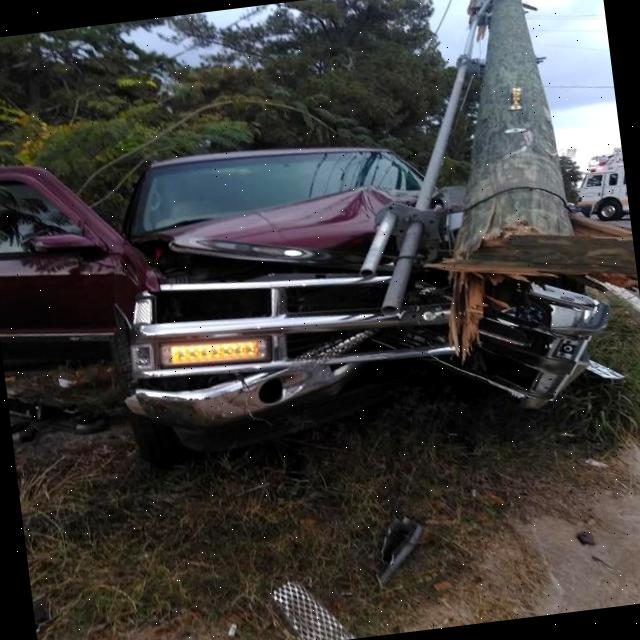Broken Pole: (450, 0, 588, 280)
